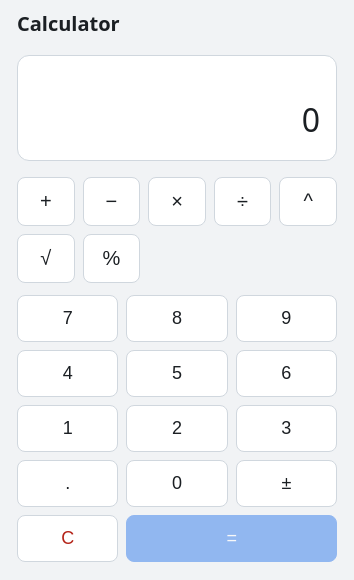
Test: App › computes √2 + √2 as 2.82842712475, without dropping the addition (ADR-0026)
Click the button "2". click: (177, 428)
box: [126,405,228,452]
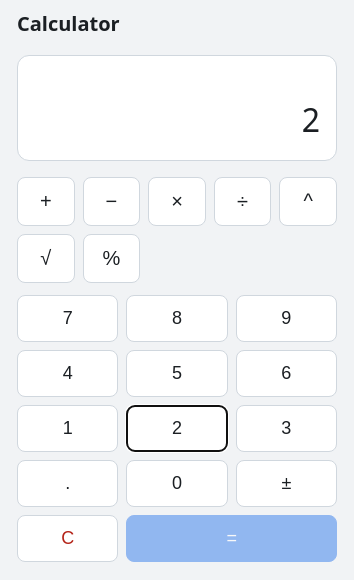
Click the button named "Square root". click: (46, 258)
box: [17,234,75,283]
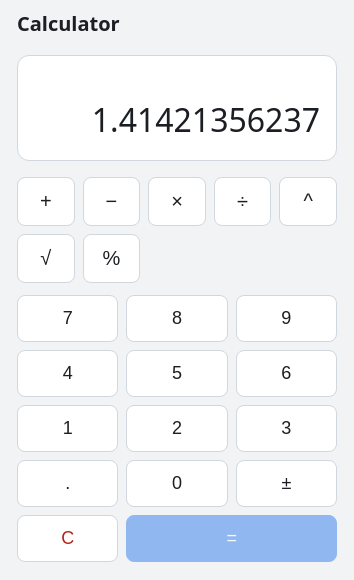
Expected: the text "1.41421356237" is shown, [92,98,320,141]
Click the button named "Addition". click: (46, 202)
box: [17,177,75,226]
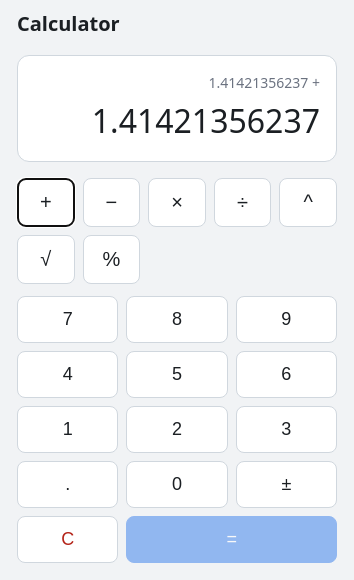
Click the button "2". click: (177, 430)
box: [126,406,228,453]
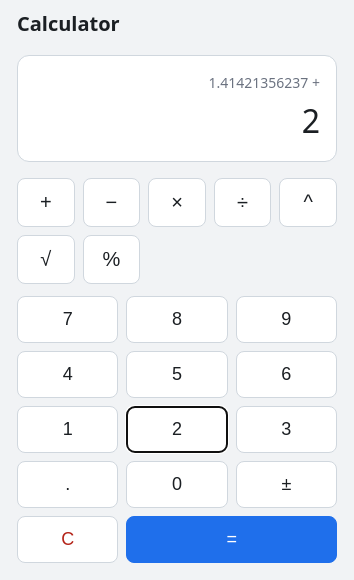
Click the button named "Square root". click: (46, 260)
box: [17,235,75,284]
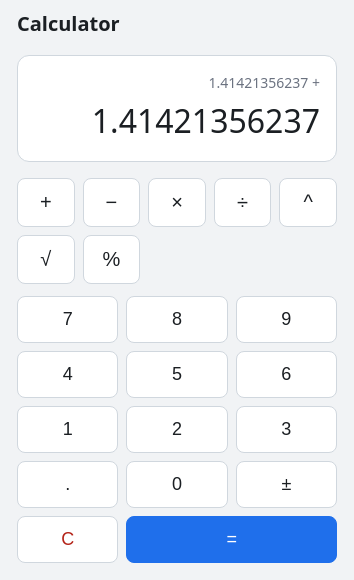
Expected: the text "1.41421356237 +" is shown, [208,73,320,92]
Click the button named "Equals". click: (232, 540)
box: [126,516,337,563]
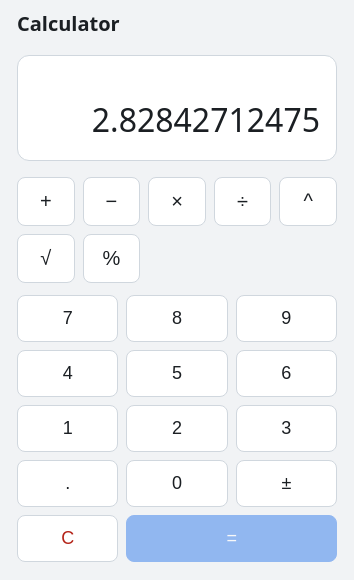
Expected: the text "2.82842712475" is shown, [92,98,320,141]
